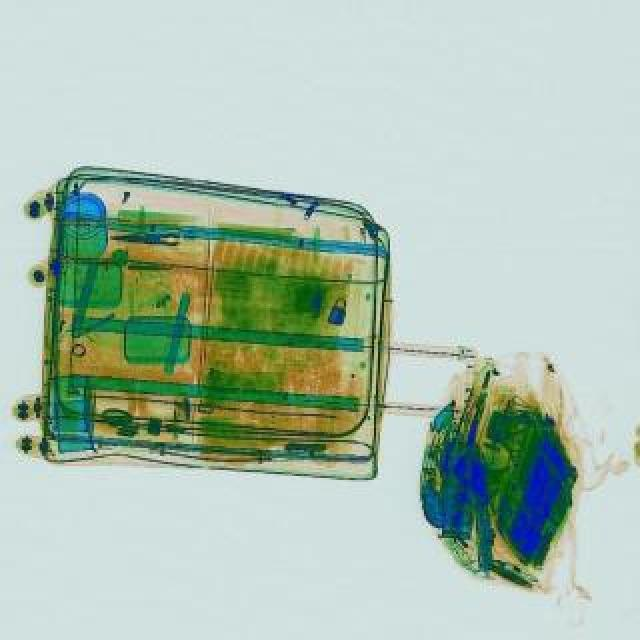knife: (112, 230, 182, 246)
